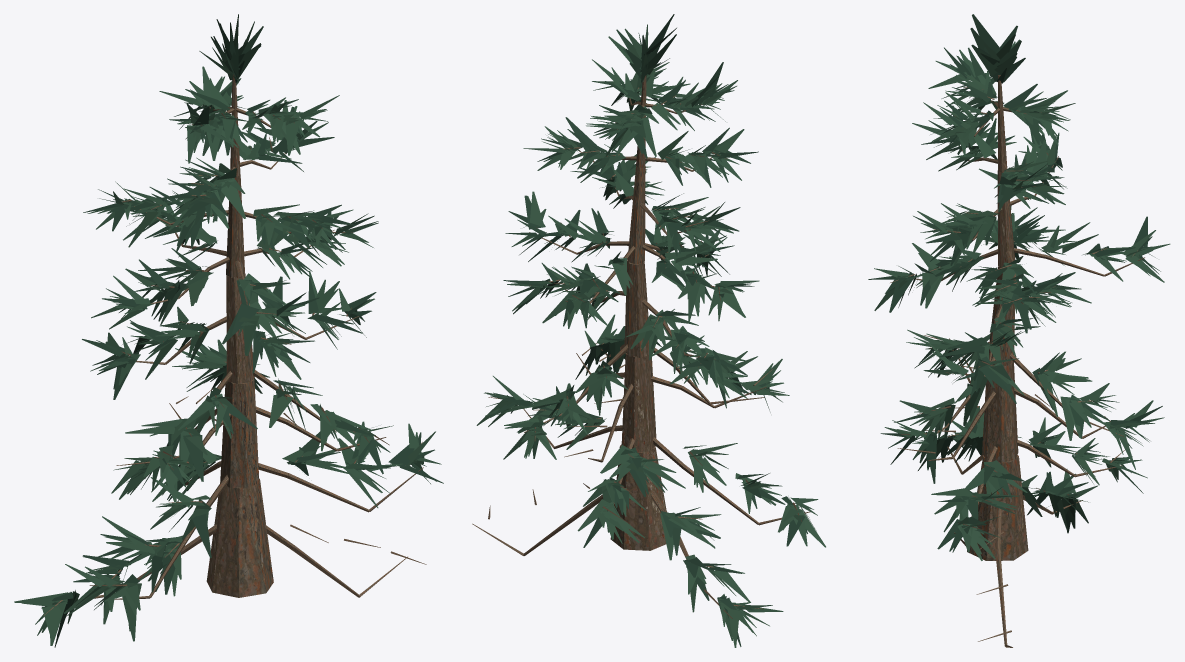
Rendered from detail_spruce_far.glb.
The picture shows the model from 3 angles, left to right: view 1: azimuth 30°, elevation 25°; view 2: azimuth 150°, elevation 25°; view 3: azimuth 270°, elevation 25°; orthographic projection. The views are drawn at different scales.
Visible parts, largest first — view 1: Cone; view 2: Cone; view 3: Cone.
Boxes of the visible parts, <box> form: Cone: <box>14,14,443,647</box>; Cone: <box>472,14,825,647</box>; Cone: <box>868,14,1170,647</box>.
Size of the model in its own units: 6.11 by 9.77 by 4.66.
3 materials, 1 textured.
